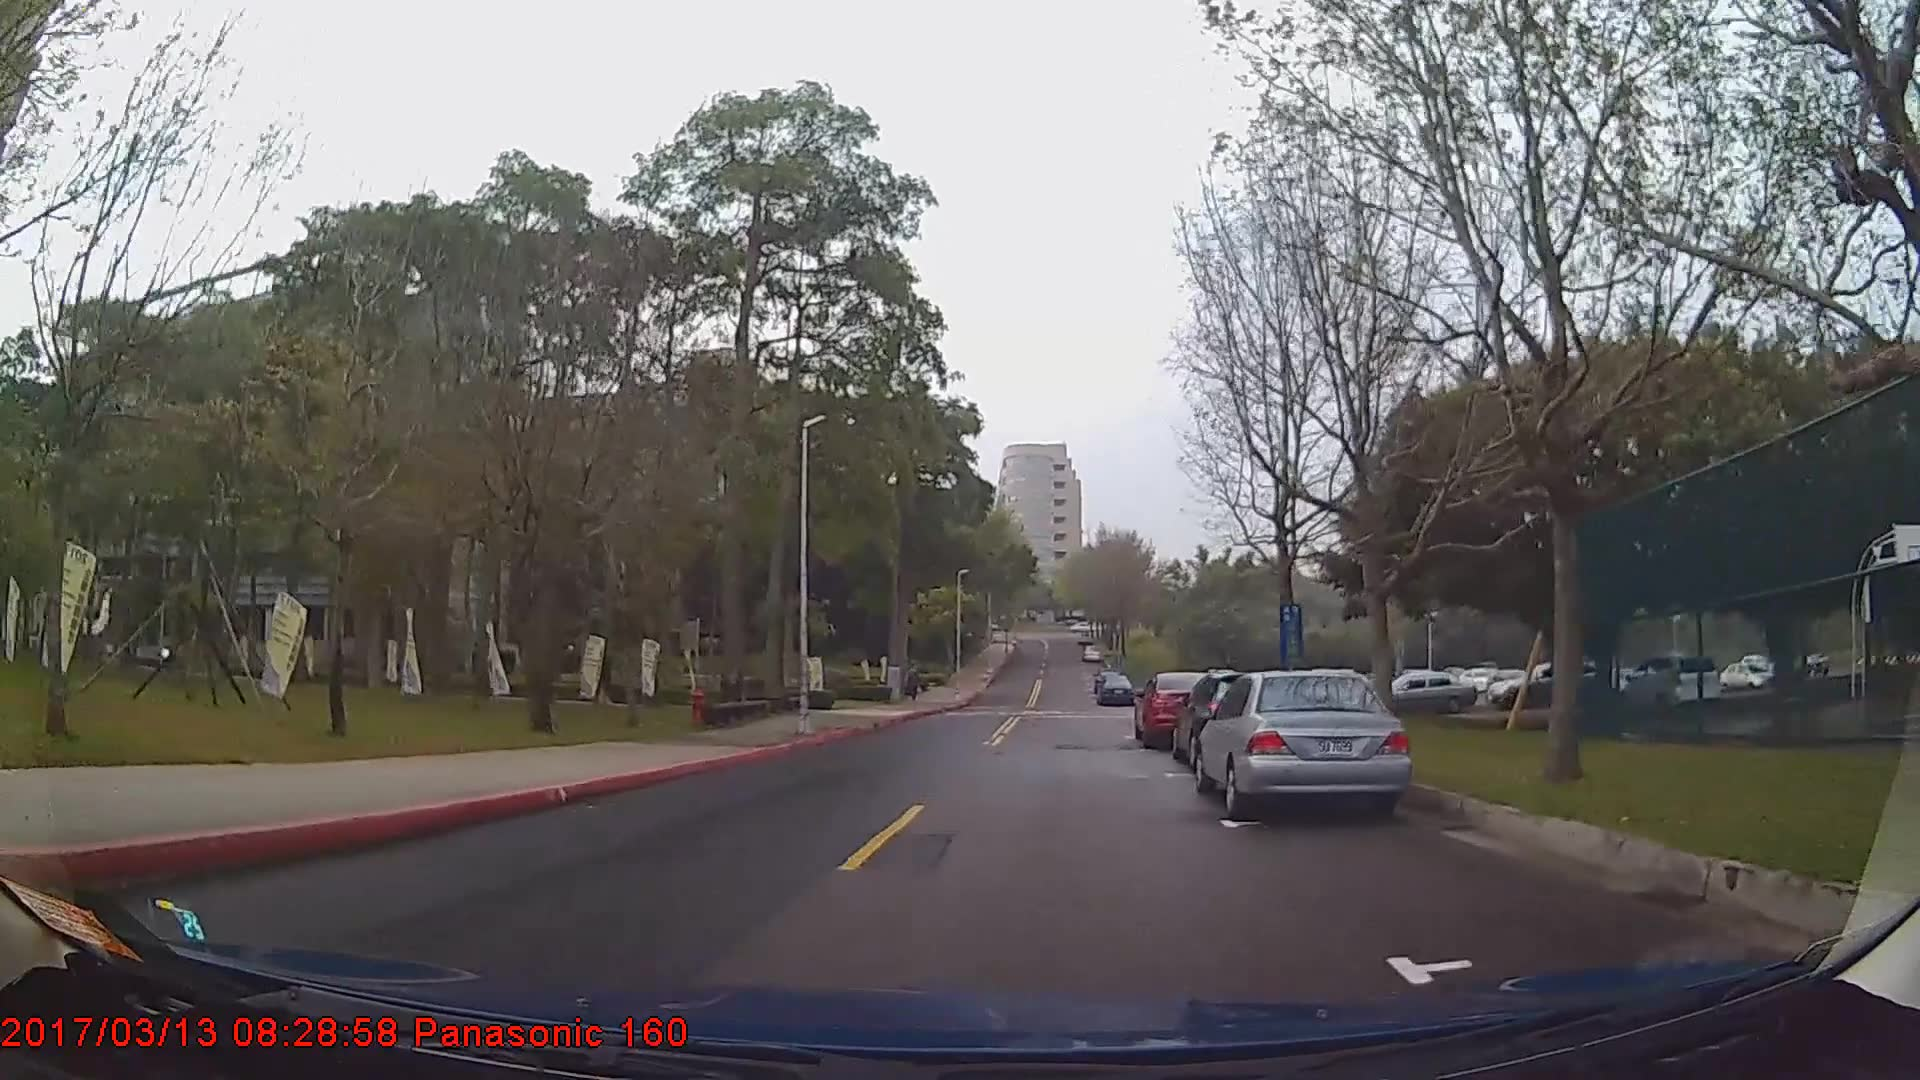vehicle: (1193, 670, 1412, 822), (1134, 670, 1230, 753), (1610, 651, 1720, 712), (1489, 661, 1611, 711), (1379, 666, 1476, 717), (1096, 673, 1131, 707)
